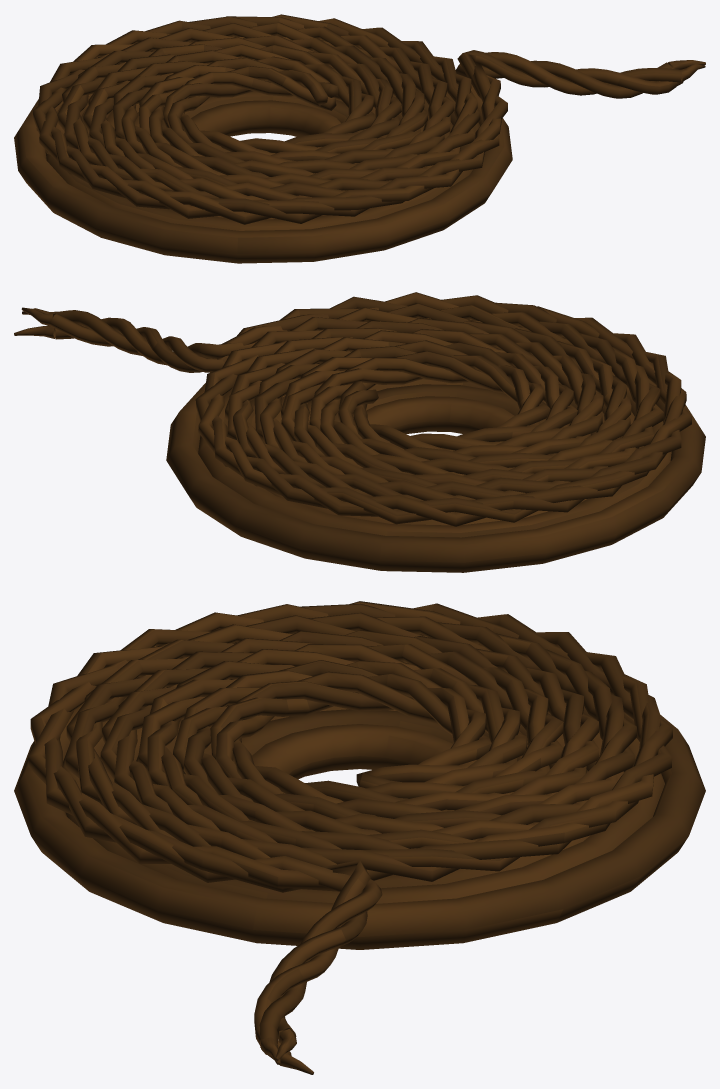
Rendered from rope_coil.glb.
3 renders of one model, top to bottom at view 1: azimuth 30°, elevation 25°; view 2: azimuth 150°, elevation 25°; view 3: azimuth 270°, elevation 25°, orthographic. The views are drawn at different scales.
Parts seen in each view (by area): view 1: BraidedCoil, LowerTurns, FrayedEnd; view 2: BraidedCoil, LowerTurns, FrayedEnd; view 3: BraidedCoil, LowerTurns, FrayedEnd.
Part boxes in pixels (x1,y1,x2,y2): BraidedCoil: (33, 14, 682, 224); LowerTurns: (14, 76, 512, 263); FrayedEnd: (668, 60, 705, 86); BraidedCoil: (50, 292, 691, 526); LowerTurns: (166, 372, 705, 572); FrayedEnd: (14, 307, 57, 338); BraidedCoil: (28, 601, 672, 1059); LowerTurns: (14, 698, 705, 949); FrayedEnd: (261, 1029, 313, 1074).
Bounding box in the file's own units: 1.24 × 0.1156 × 0.856.
1 material, 1 textured.
